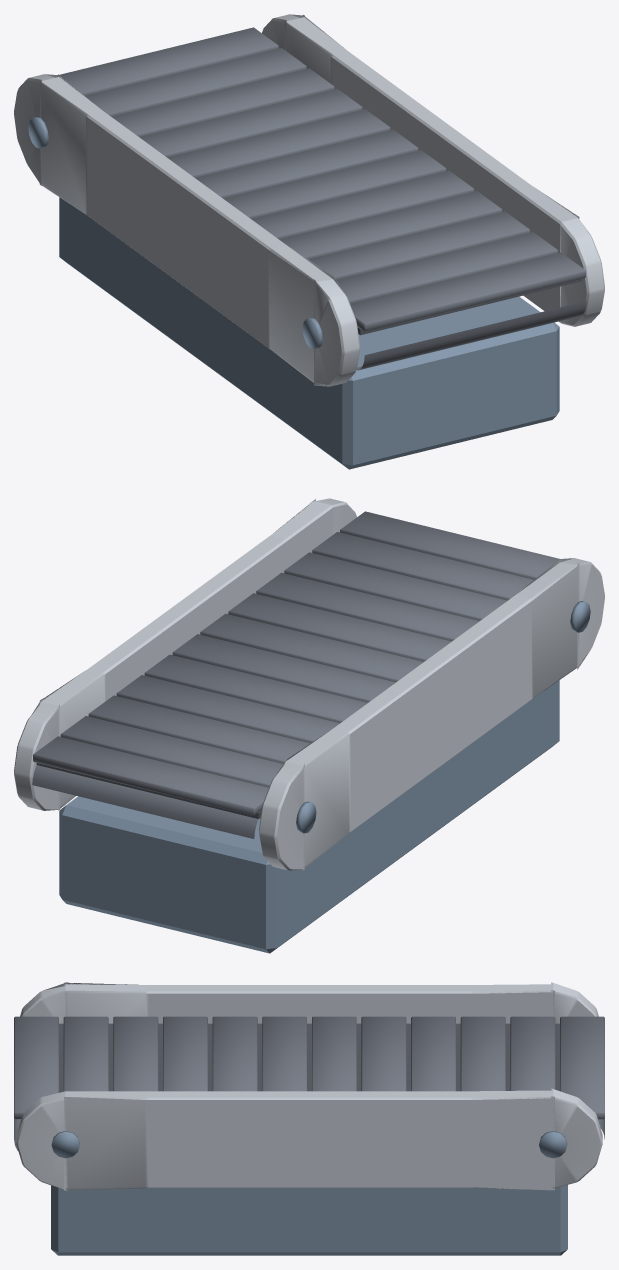
File: Conveyor_Straight.glb
3 views of the same model, one above another, from view 1: azimuth 30°, elevation 25°; view 2: azimuth 150°, elevation 25°; view 3: azimuth 270°, elevation 25° (orthographic). The views are drawn at different scales.
Parts seen in each view (by area): view 1: Straight_Belt_Slats, Straight_Pedestal, Straight_Rail_Left, Straight_Rail_Right, Straight_End_Rollers, Straight_Bolts_Left, Straight_Belt_Bed; view 2: Straight_Belt_Slats, Straight_Pedestal, Straight_Rail_Left, Straight_Rail_Right, Straight_End_Rollers, Straight_Bolts_Left, Straight_Belt_Bed; view 3: Straight_Rail_Right, Straight_Belt_Slats, Straight_Pedestal, Straight_Rail_Left, Straight_Belt_Bed, Straight_Bolts_Right.
Boxes of the visible parts, x1=… form: Straight_Belt_Slats: x1=59, y1=27, x2=585, y2=331; Straight_Pedestal: x1=59, y1=197, x2=559, y2=469; Straight_Rail_Left: x1=14, y1=74, x2=359, y2=386; Straight_Rail_Right: x1=262, y1=14, x2=604, y2=326; Straight_End_Rollers: x1=356, y1=301, x2=586, y2=370; Straight_Bolts_Left: x1=28, y1=117, x2=322, y2=349; Straight_Belt_Bed: x1=357, y1=279, x2=582, y2=335; Straight_Belt_Slats: x1=33, y1=511, x2=559, y2=815; Straight_Pedestal: x1=59, y1=680, x2=559, y2=953; Straight_Rail_Left: x1=259, y1=558, x2=604, y2=870; Straight_Rail_Right: x1=14, y1=498, x2=356, y2=810; Straight_End_Rollers: x1=32, y1=765, x2=258, y2=838; Straight_Bolts_Left: x1=296, y1=601, x2=590, y2=833; Straight_Belt_Bed: x1=36, y1=763, x2=261, y2=818; Straight_Rail_Right: x1=16, y1=1088, x2=602, y2=1190; Straight_Belt_Slats: x1=14, y1=1016, x2=604, y2=1119; Straight_Pedestal: x1=51, y1=1185, x2=567, y2=1255; Straight_Rail_Left: x1=20, y1=982, x2=598, y2=1023; Straight_Belt_Bed: x1=59, y1=1023, x2=559, y2=1092; Straight_Bolts_Right: x1=51, y1=1131, x2=567, y2=1158.
Size of the model in its own units: 0.476 by 0.3239 by 1.01.
